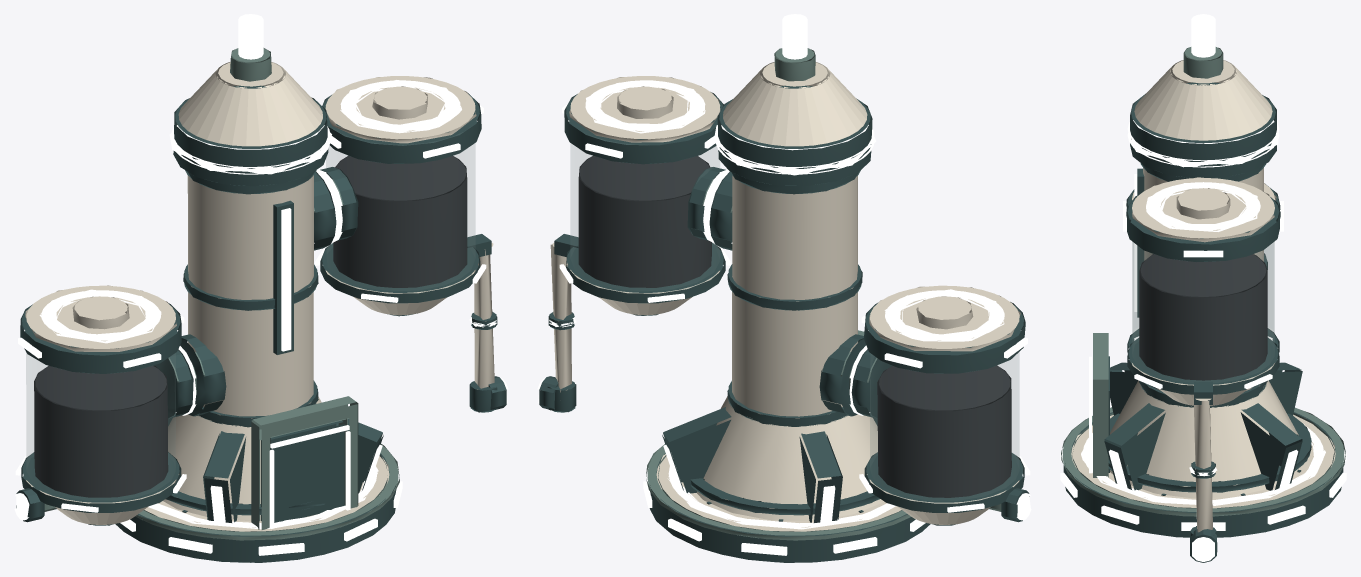
Rendered from Vat_T2_lab.glb.
The picture shows the model from 3 angles, left to right: view 1: azimuth 30°, elevation 25°; view 2: azimuth 150°, elevation 25°; view 3: azimuth 270°, elevation 25°; orthographic projection. The views are drawn at different scales.
Parts seen in each view (by area): view 1: Vat_T2; view 2: Vat_T2; view 3: Vat_T2.
Boxes of the visible parts, x1=… form: Vat_T2: x1=14, y1=14, x2=508, y2=562; Vat_T2: x1=537, y1=14, x2=1031, y2=562; Vat_T2: x1=1060, y1=14, x2=1346, y2=562.
Size of the model in its own units: 6.83 by 6.61 by 3.67.
